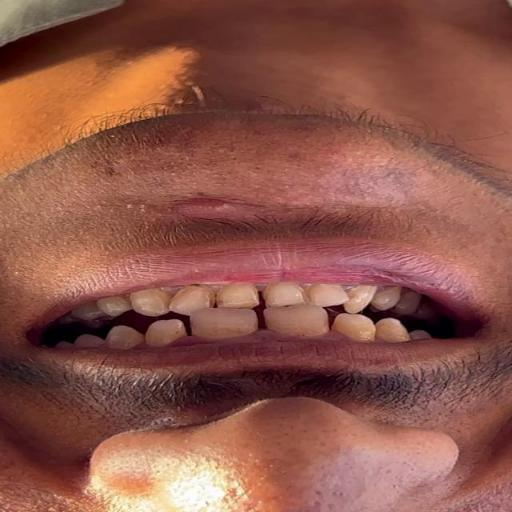spaced: (253, 312, 273, 332), (180, 321, 196, 343), (252, 286, 268, 304)
